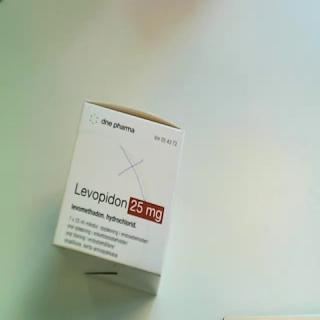levopidon25mg: (51, 96, 189, 300)
